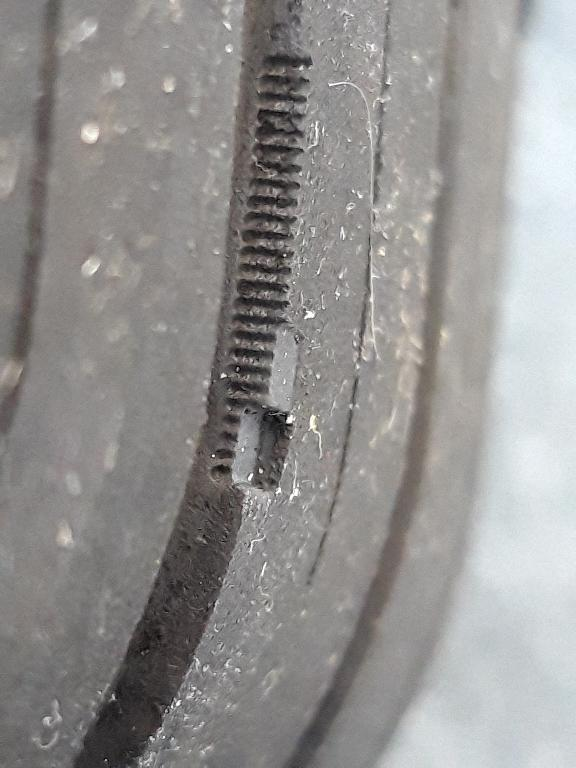temoin:25: (196, 313, 315, 510)
